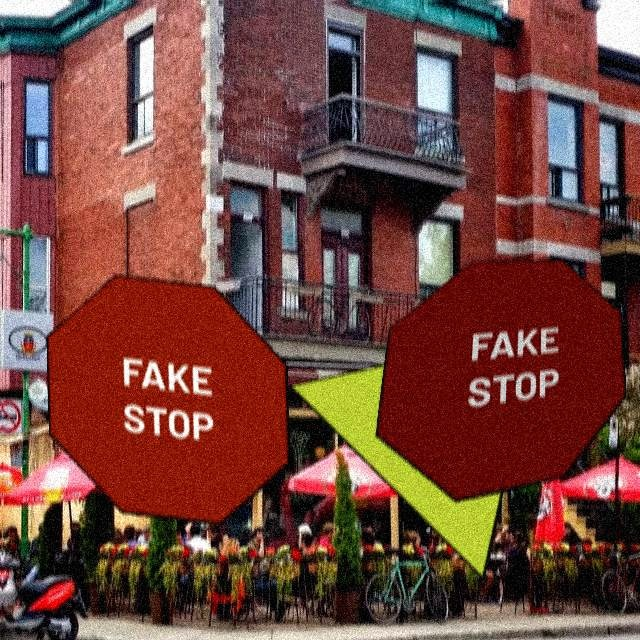FAKE_STOP: (44, 272, 288, 523), (373, 257, 624, 500)
YIELD: (286, 328, 537, 578)
